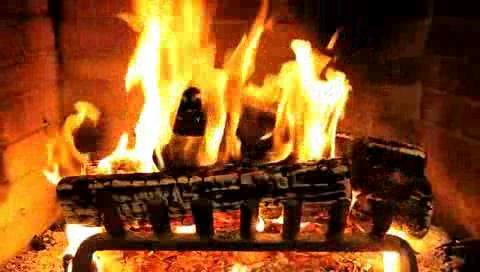fire: (111, 15, 358, 163)
